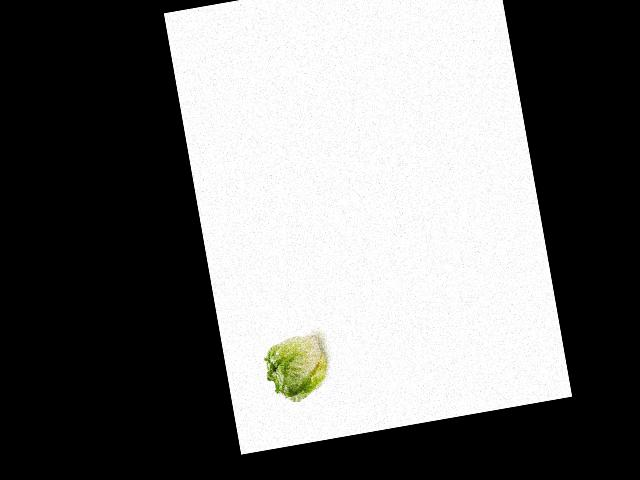lettuce: (257, 327, 331, 410)
